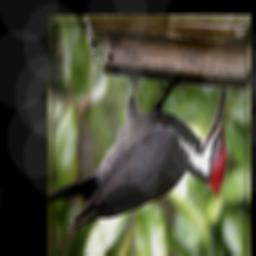Woodpecker: (48, 73, 228, 232)
